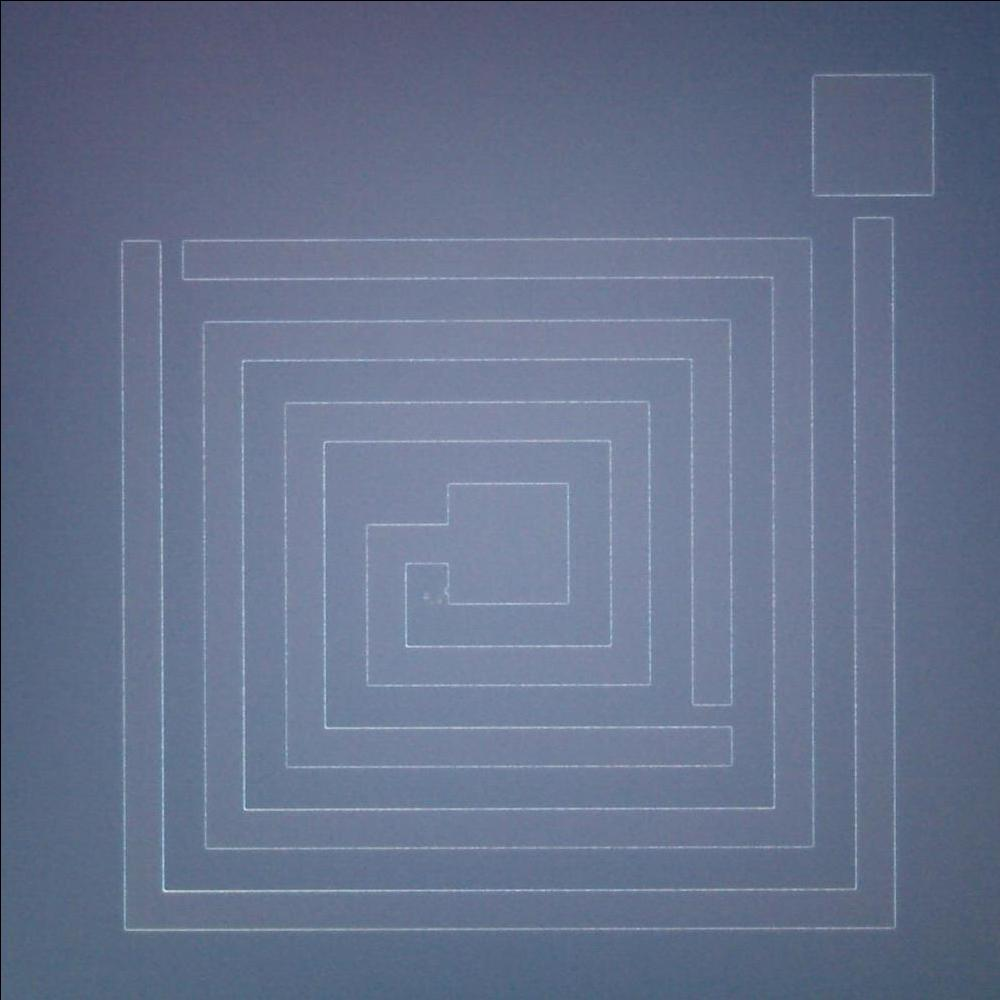short circuit: (136, 222, 207, 288), (837, 174, 908, 238), (682, 686, 739, 743)
